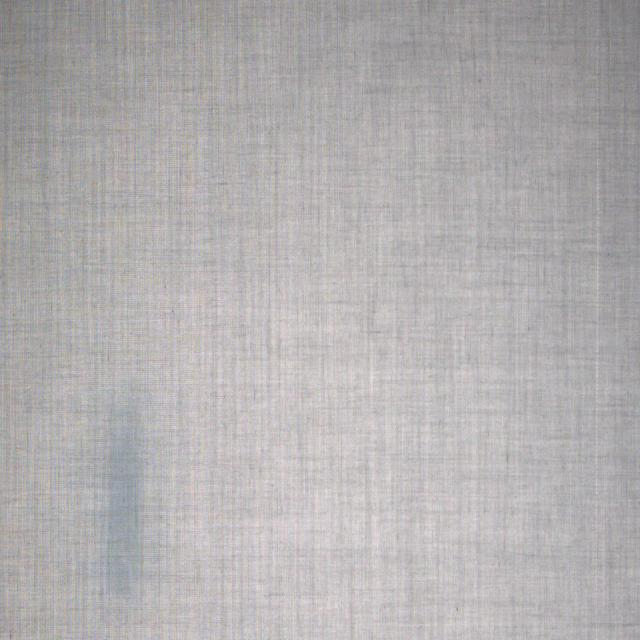dirty: (107, 416, 144, 591)
